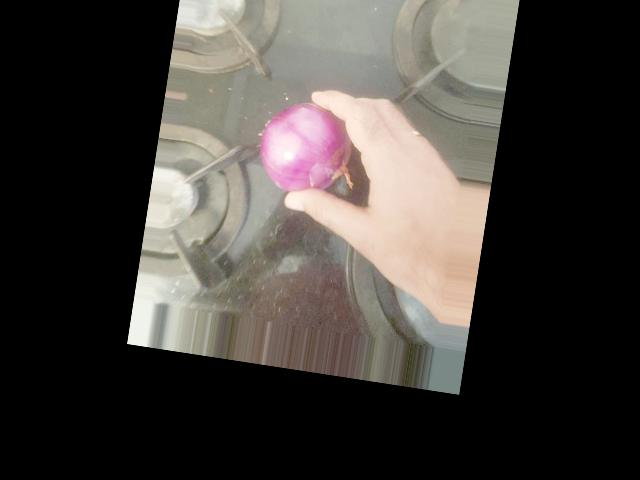onion: (216, 15, 322, 107)
